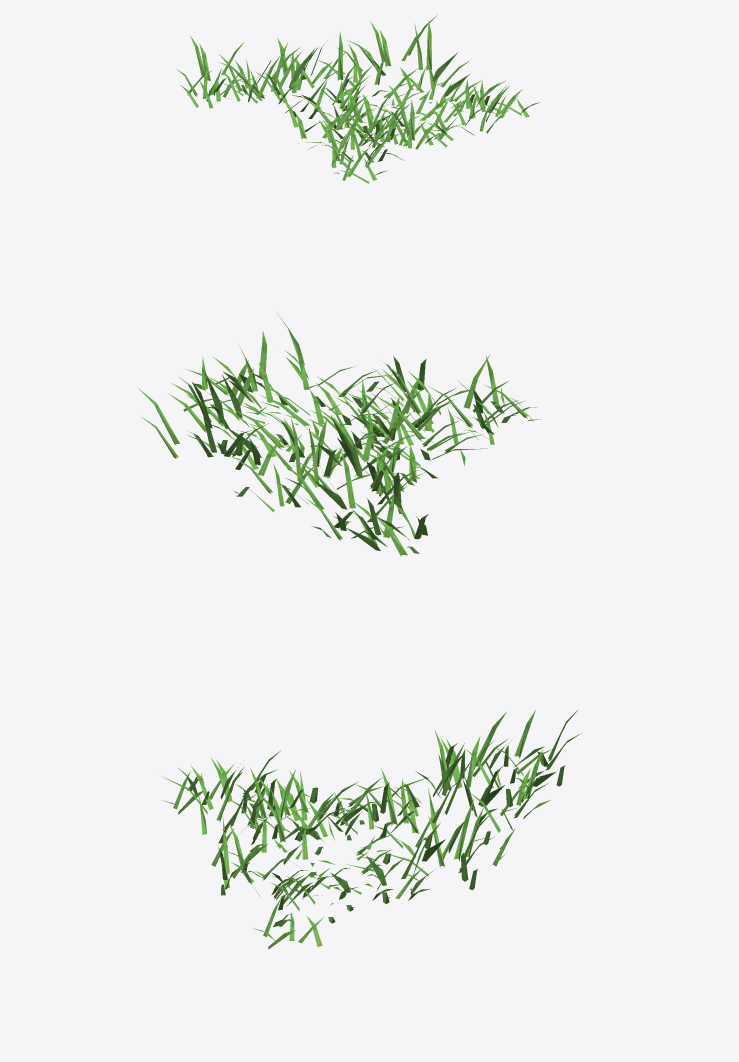
File: Grass.glb
The picture shows the model from 3 angles, top to bottom: view 1: azimuth 30°, elevation 25°; view 2: azimuth 150°, elevation 25°; view 3: azimuth 270°, elevation 25°; orthographic projection. The views are drawn at different scales.
Parts seen in each view (by area): view 1: glbxz.com6153.1; view 2: glbxz.com6153.1; view 3: glbxz.com6153.1.
Part boxes in pixels (x1,y1,x2,y2): glbxz.com6153.1: [177, 15, 540, 183]; glbxz.com6153.1: [138, 313, 540, 556]; glbxz.com6153.1: [161, 710, 582, 949].
Bounding box in the file's own units: 4.58 × 0.6307 × 4.09.
2 materials, 2 textured.
